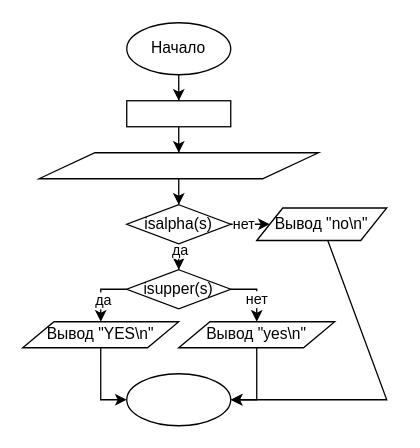
Image size: 420x448. Some labels were removed from this diagram. The centre of each missing label's shape, as x and y in pixels:
"Ввод значения символа s" belongs at [178,165].
"Конец" belongs at [178,399].
"Символ s" belongs at [178,113].
